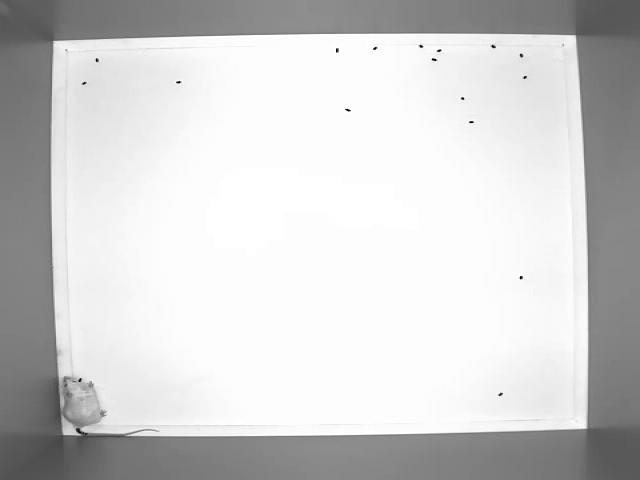Tikus: (62, 375, 162, 437)
